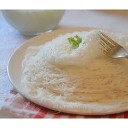idiyappam: (28, 36, 128, 103)
